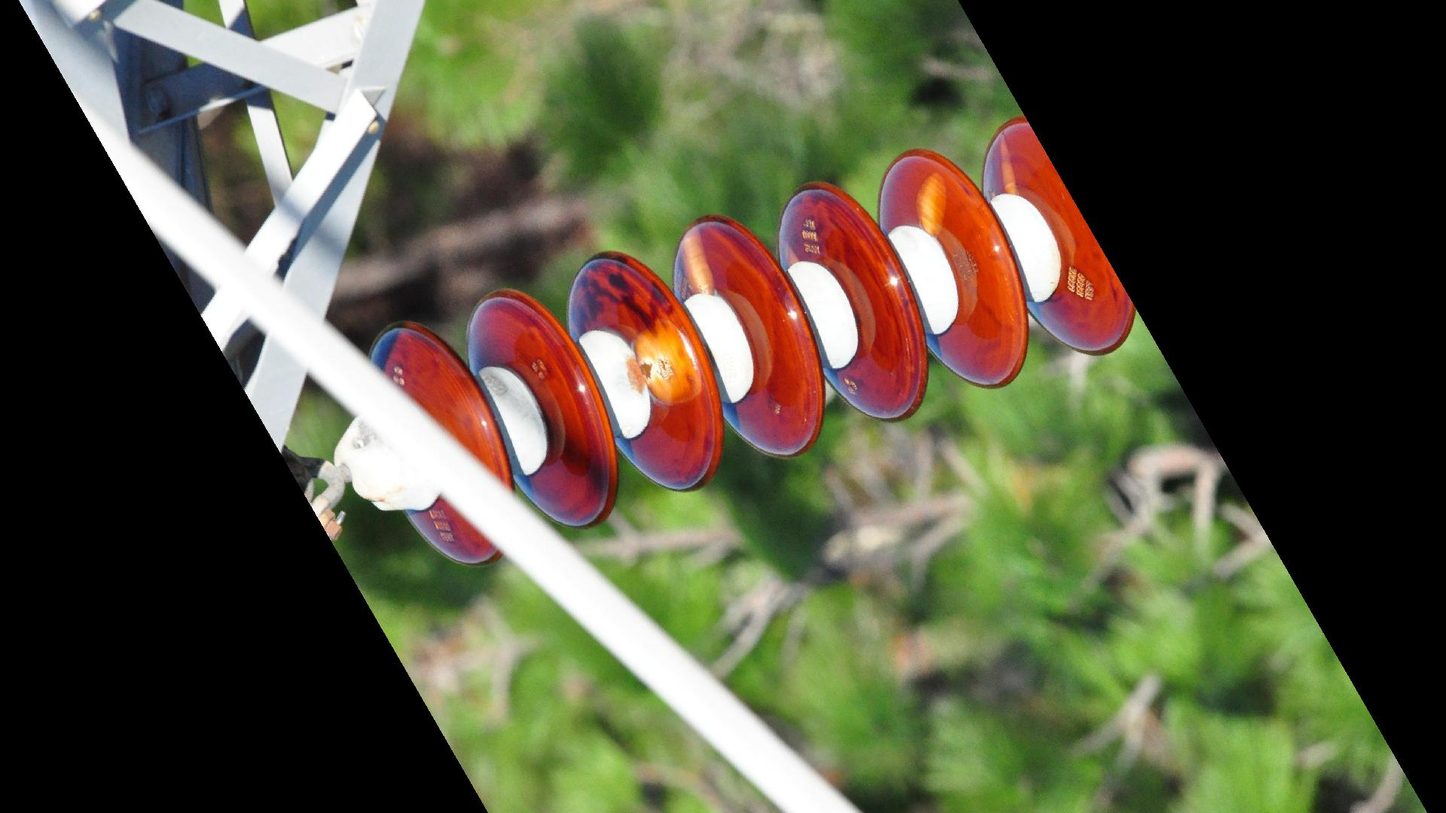insulator: (362, 107, 1149, 572)
insulator_flashover: (631, 319, 706, 410), (676, 223, 721, 299), (913, 170, 950, 236), (995, 131, 1021, 198)
